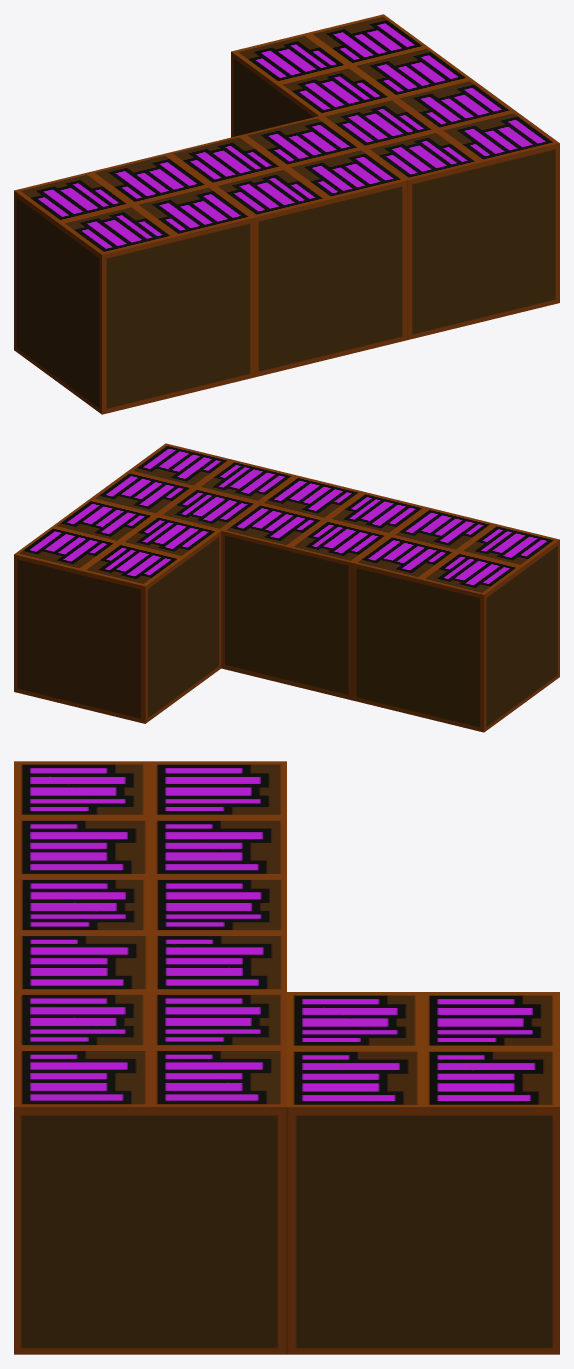
Rendered from BlockL2 - Copy.fbx.
3 views of the same model, one above another, from view 1: azimuth 30°, elevation 25°; view 2: azimuth 150°, elevation 25°; view 3: azimuth 270°, elevation 25° (orthographic). The views are drawn at different scales.
Visible parts, largest first — view 1: Cube.002; view 2: Cube.002; view 3: Cube.002.
Boxes of the visible parts, x1=… form: Cube.002: x1=14, y1=14, x2=559, y2=414; Cube.002: x1=14, y1=443, x2=559, y2=732; Cube.002: x1=14, y1=761, x2=559, y2=1354.
Size of the model in its own units: 12 by 4 by 8.
